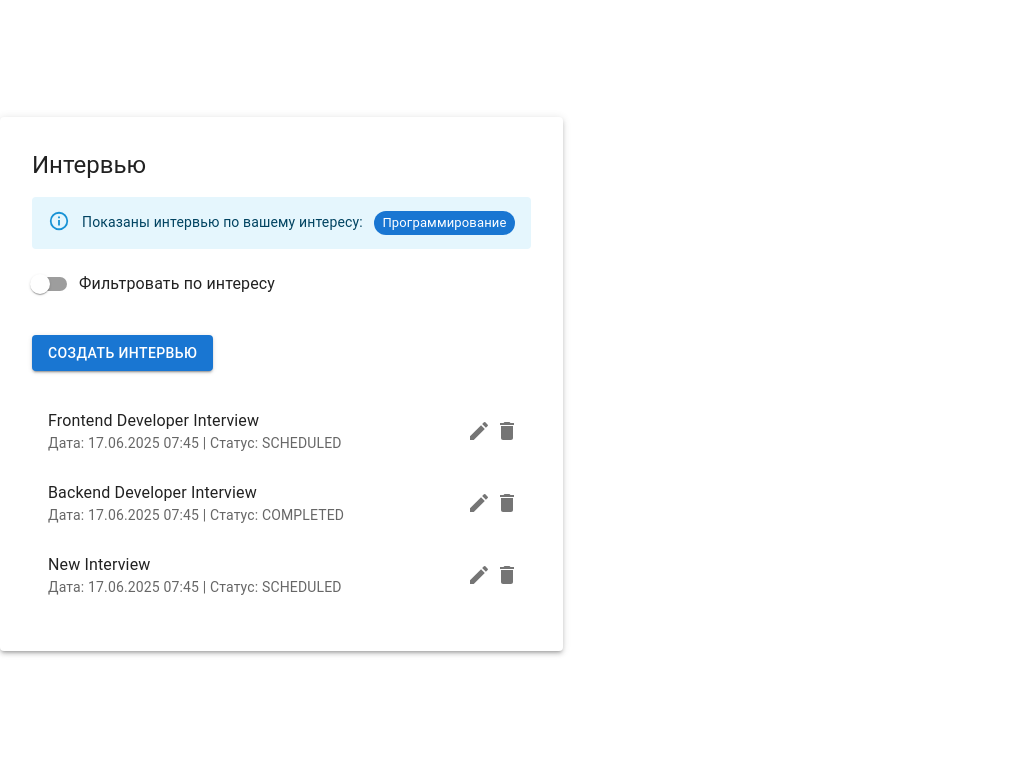
it: InterviewPage › Создание и редактирование интервью › должен открывать диалог редактирования при клике на редактировать
Expected: the heading "Интервью" is shown, [32, 151, 146, 179]
Click the button named "редактировать интервью": (478, 431) [458, 411, 498, 451]
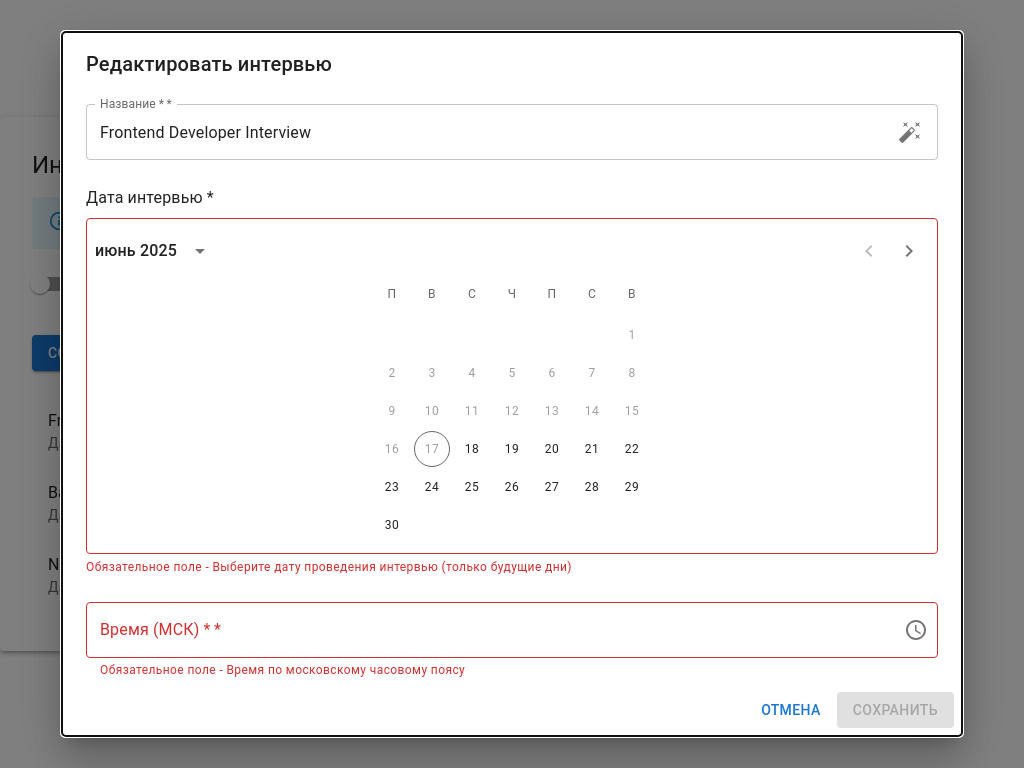
Expected: the heading "Редактировать интервью" is shown, [86, 52, 332, 76]
Expected: the field showing "Frontend Developer Interview" is shown, [86, 104, 885, 160]
